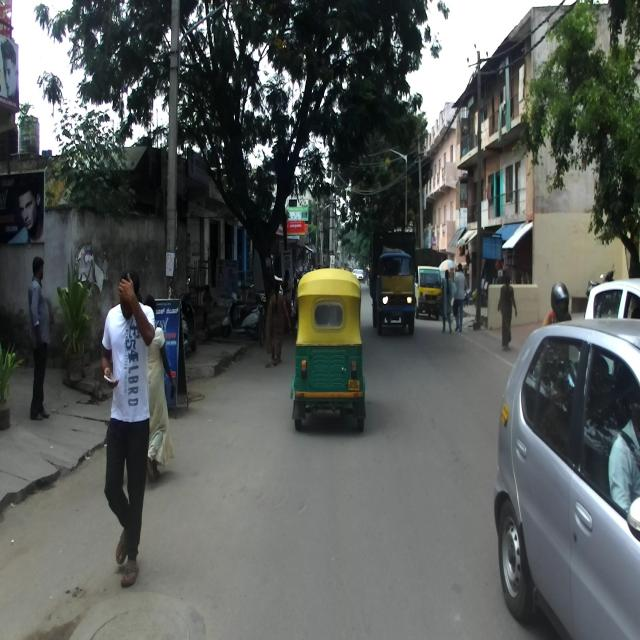Car_Maruti-Suzuki: (586, 278, 639, 323)
Car_TATA: (492, 316, 640, 640)
autorickshaw: (290, 268, 367, 432)
scooter: (221, 282, 262, 340), (174, 277, 197, 352)
truck: (369, 227, 416, 336), (415, 264, 442, 326)
